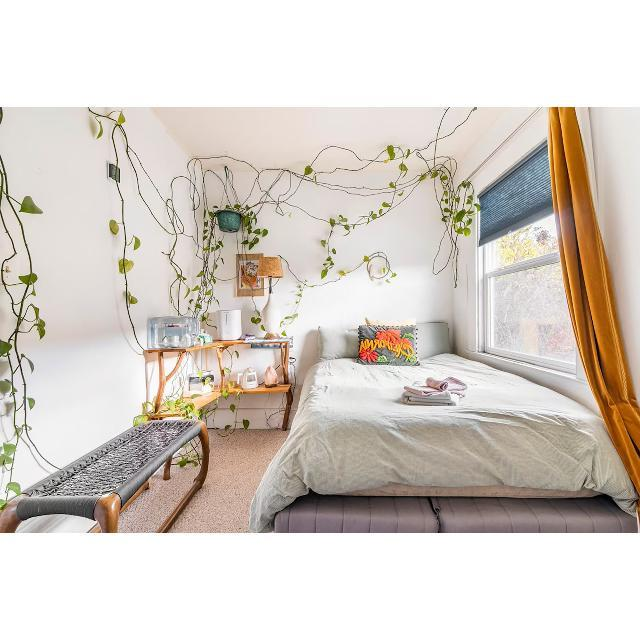pillow: (356, 321, 421, 367), (257, 255, 286, 339), (316, 325, 355, 361), (423, 320, 455, 361)
